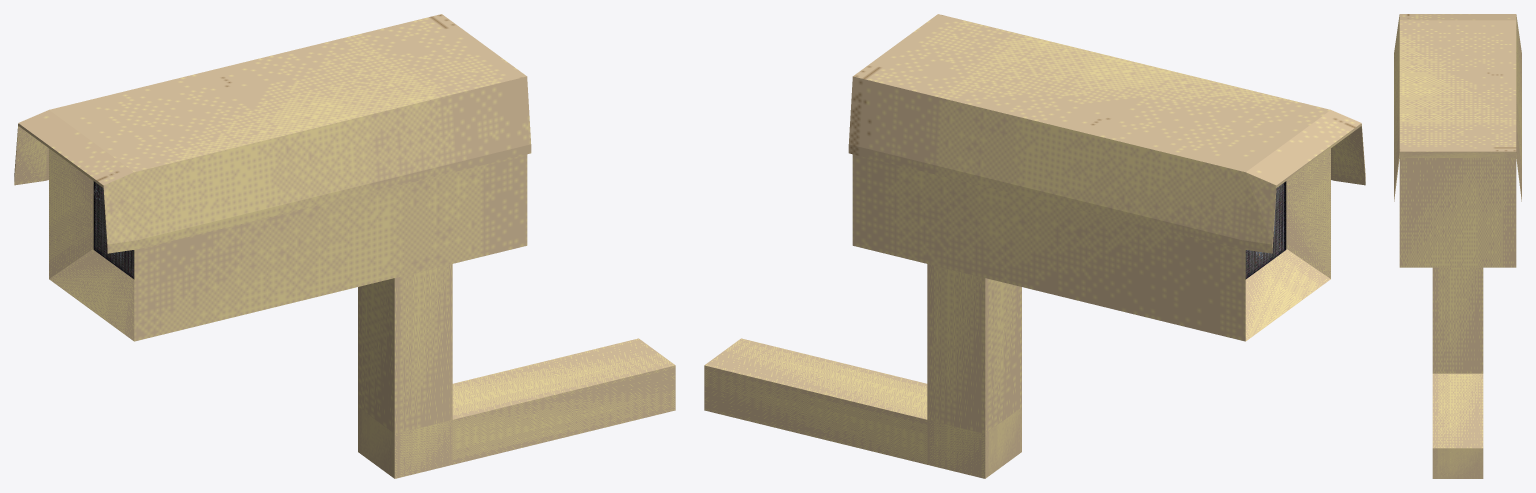
Rendered from cctv ca.fbx.
3 renders of one model, left to right at view 1: azimuth 30°, elevation 25°; view 2: azimuth 150°, elevation 25°; view 3: azimuth 270°, elevation 25°, orthographic. The views are drawn at different scales.
Visible parts, largest first — view 1: pCube9; view 2: pCube9; view 3: pCube9.
Part boxes in pixels (bbox=[...]): pCube9: bbox=[14, 14, 675, 478]; pCube9: bbox=[704, 14, 1365, 478]; pCube9: bbox=[1394, 14, 1521, 478].
Bounding box in the file's own units: 4.04 × 2.55 × 1.09.
Materials: 2 (2 with a texture image).
